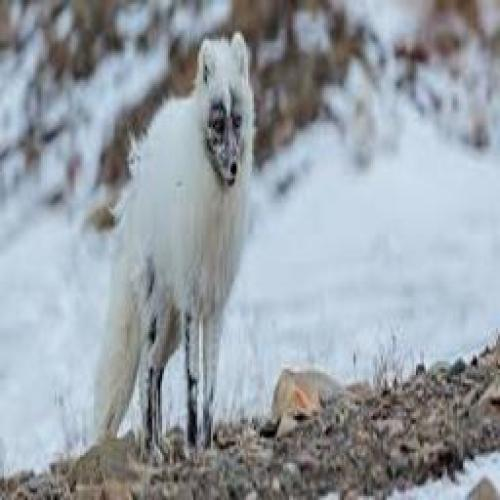arctic_fox-endangered: (89, 30, 254, 456)
